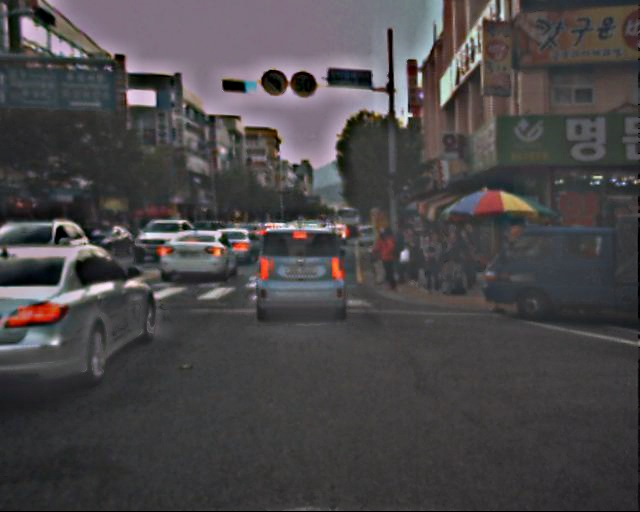person: (404, 218, 475, 287), (375, 224, 402, 290), (367, 225, 390, 282)
